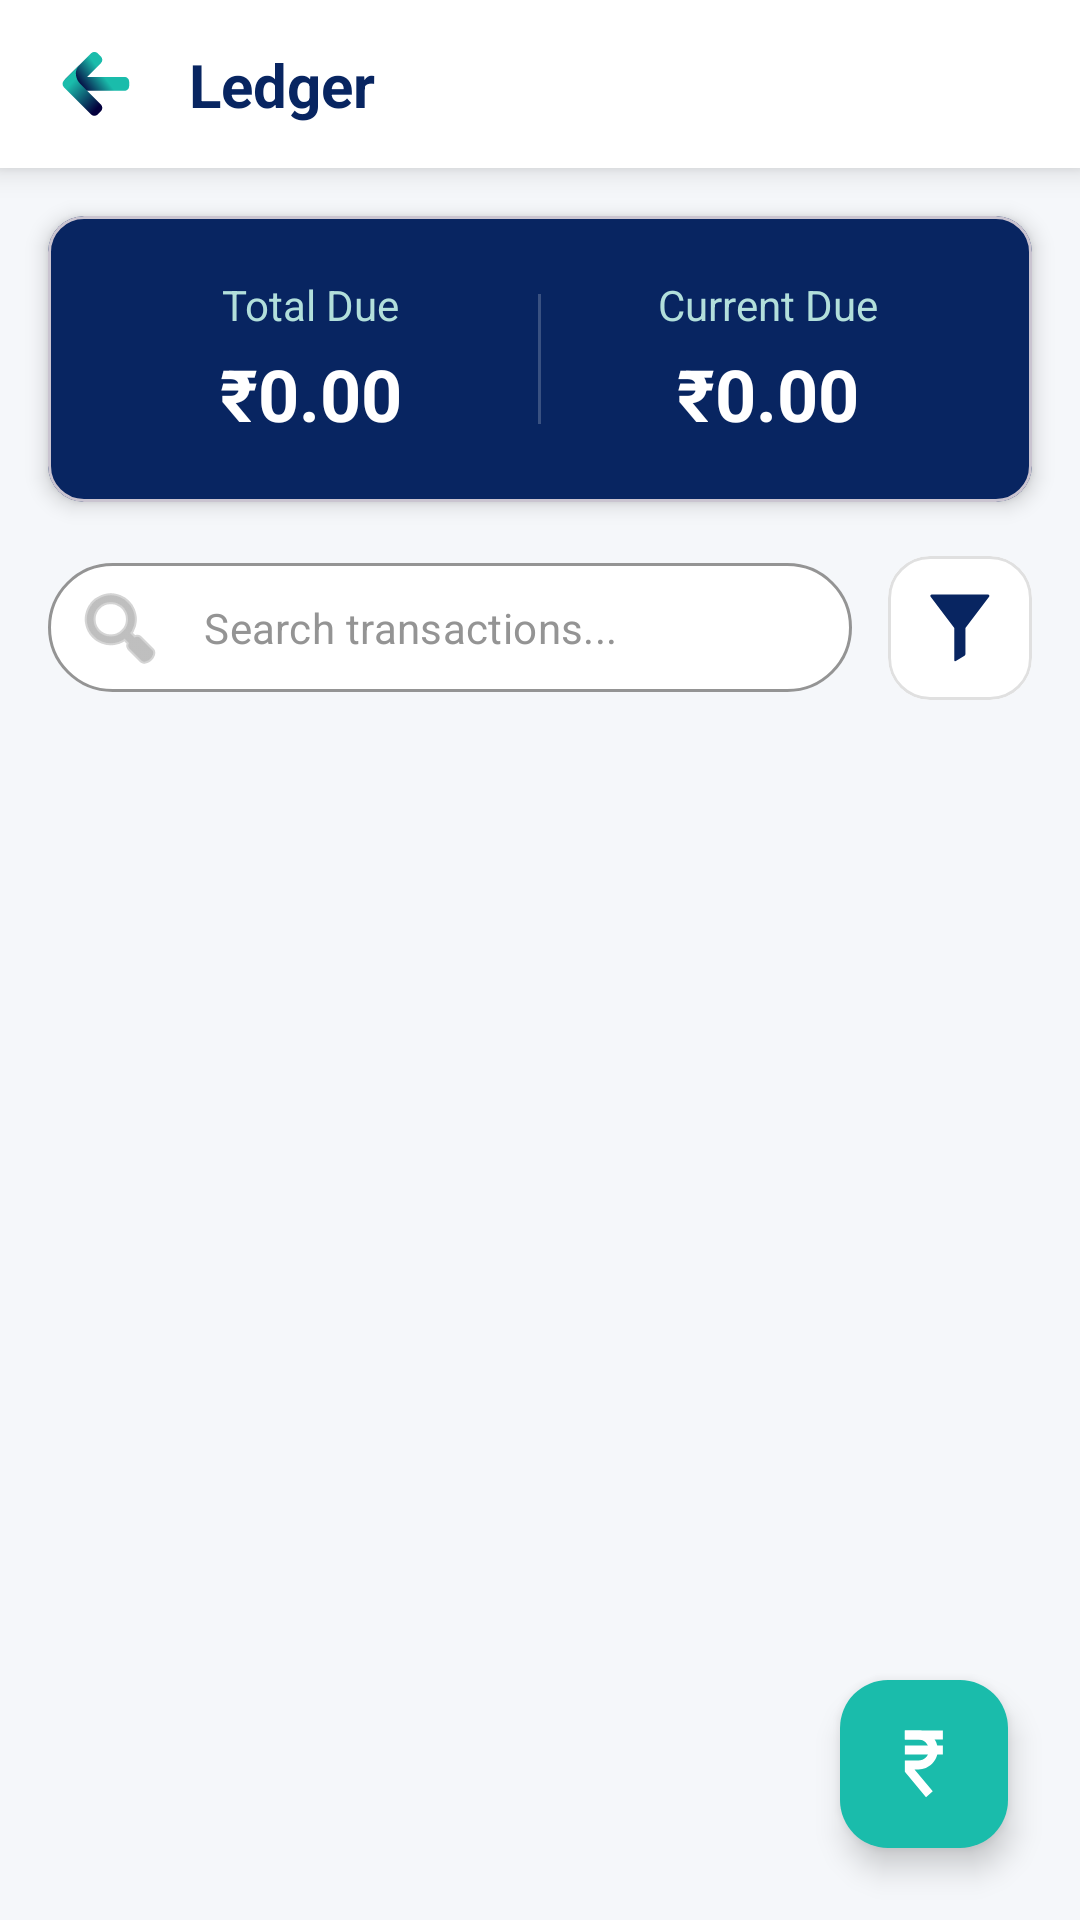

Icon bounding boxes for this 1080×1920 phone screenshot, format (x1, y1, x2, y2):
back: (62, 52, 130, 116)
filter: (930, 594, 990, 662)
rupee: (840, 1680, 1008, 1848)
